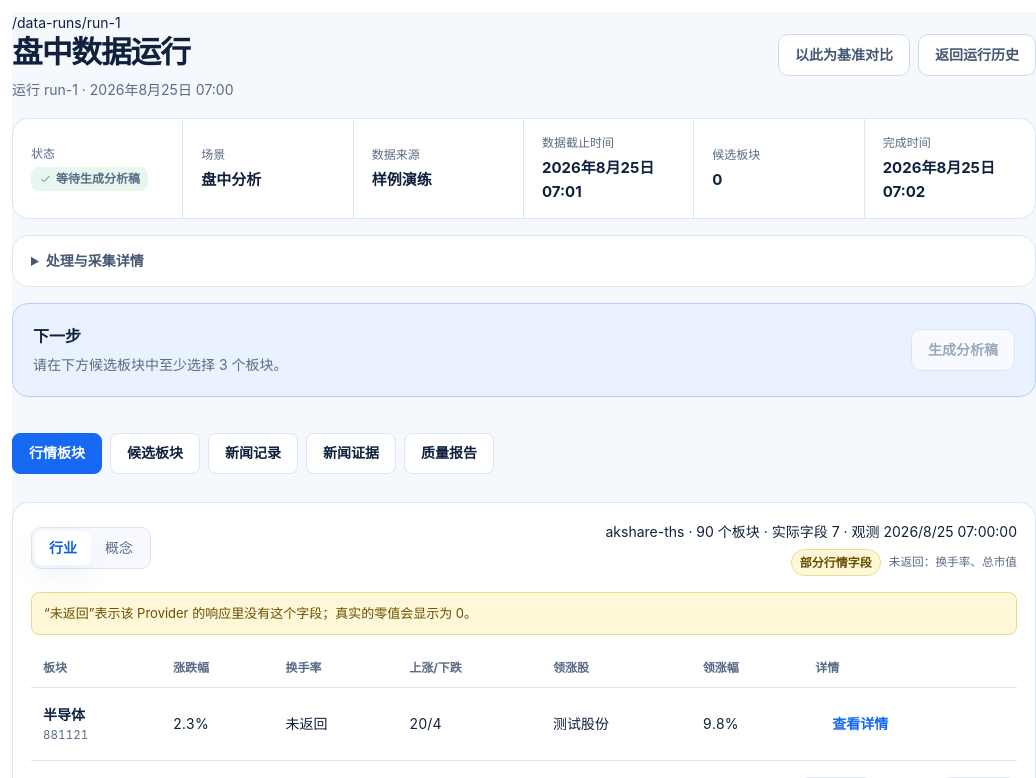
Test: explains partial industry coverage and list-only concepts
Expected: the text "部分行情字段" is shown, left=791, top=549, right=881, bottom=576
Expected: the text "未返回：换手率、总市值" is shown, left=889, top=553, right=1017, bottom=572
Click the button "概念". click: x=119, y=548
box: left=91, top=531, right=147, bottom=565
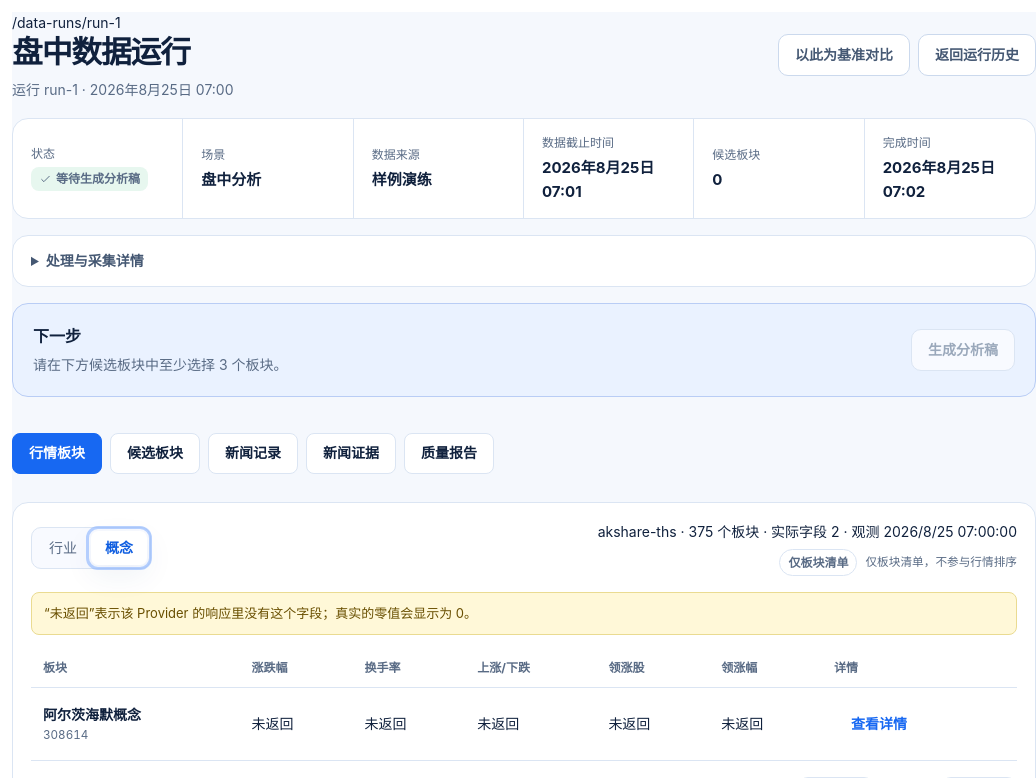
Now the text "仅板块清单，不参与行情排序" is shown, box left=866, top=553, right=1017, bottom=572
